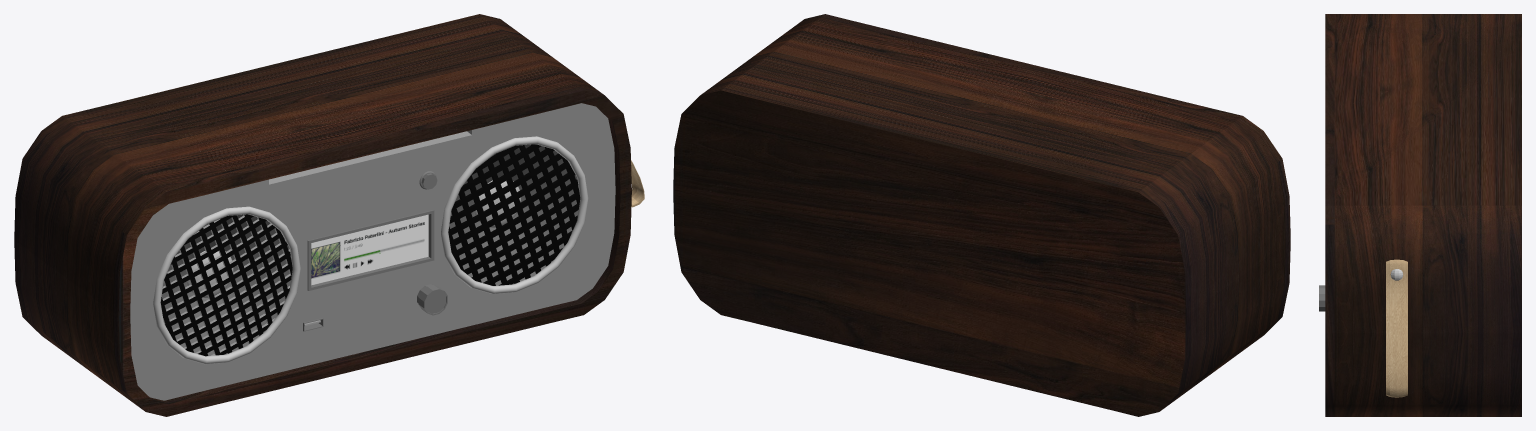
Rendered from speakerFinal.fbx.
The picture shows the model from 3 angles, left to right: view 1: azimuth 30°, elevation 25°; view 2: azimuth 150°, elevation 25°; view 3: azimuth 270°, elevation 25°; orthographic projection. The views are drawn at different scales.
Visible parts, largest first — view 1: speaker, speaker_volumeKnob; view 2: speaker; view 3: speaker.
Part boxes in pixels (box(x1,y1,x2,y2)): speaker: box(14, 14, 644, 416); speaker_volumeKnob: box(417, 284, 447, 315); speaker: box(673, 14, 1290, 416); speaker: box(1325, 14, 1521, 416).
Bounding box in the file's own units: 19.44 × 7.46 × 6.49.
10 materials, 3 textured.
